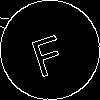F: (25, 25, 69, 79)
